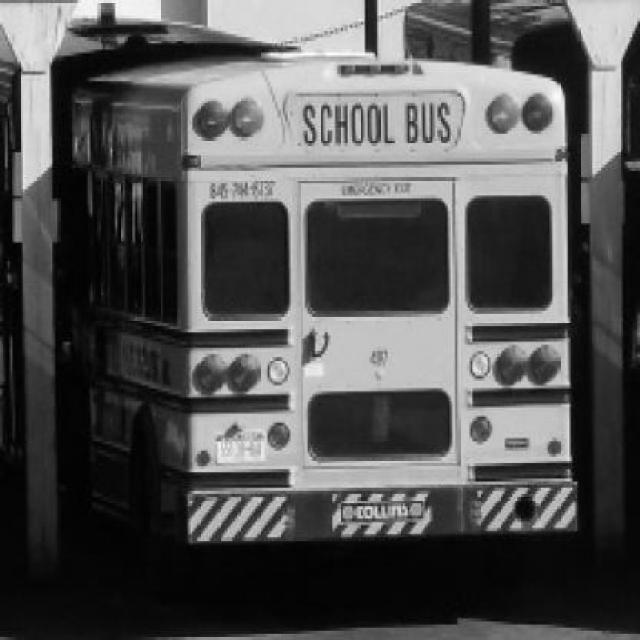Bus- Small: (56, 54, 580, 547)
